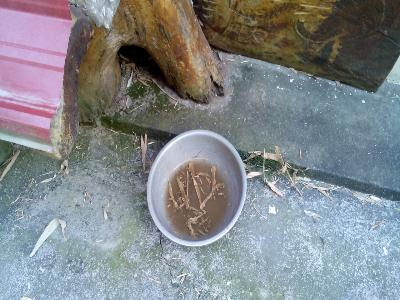bowl: (143, 128, 249, 249)
